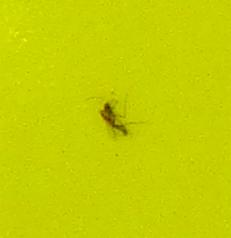Nematocera: (100, 100, 131, 138)
